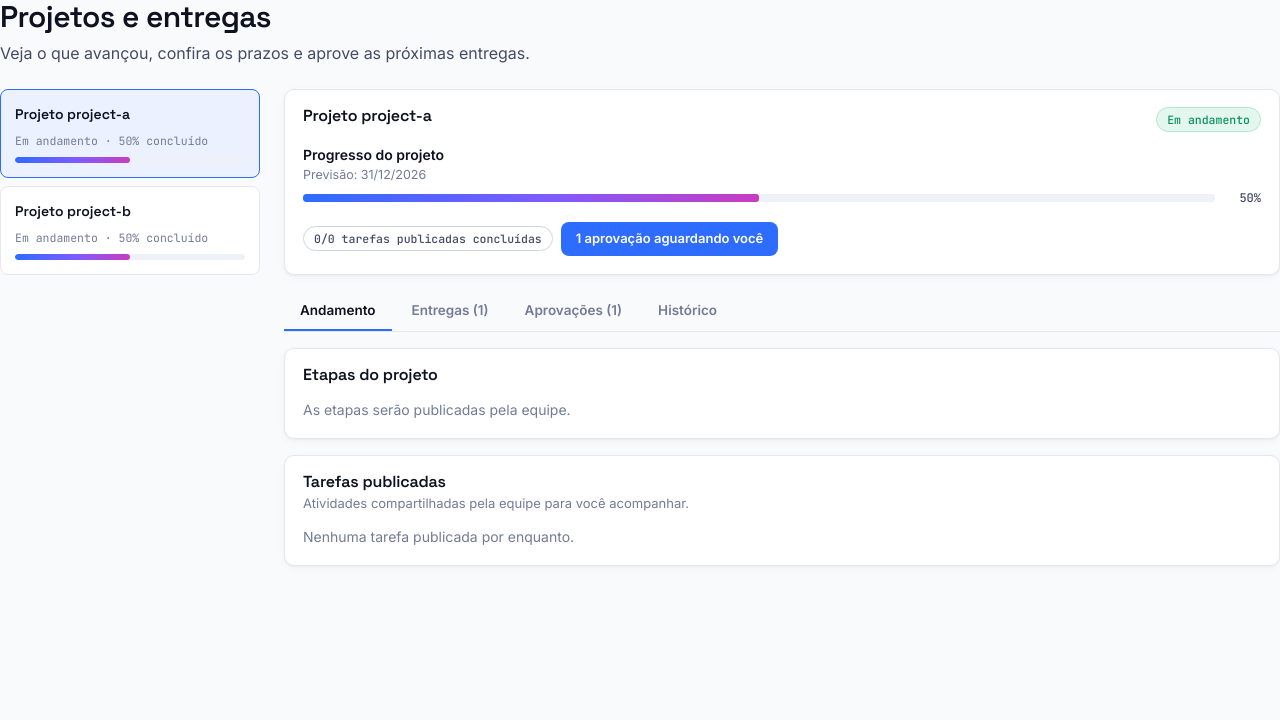
Test: PortalProjectsPage › keeps the approval dialog open with the error when registering fails
Press the mouse on the tab "Aprovações (1)": (573, 311) [509,291,638,331]
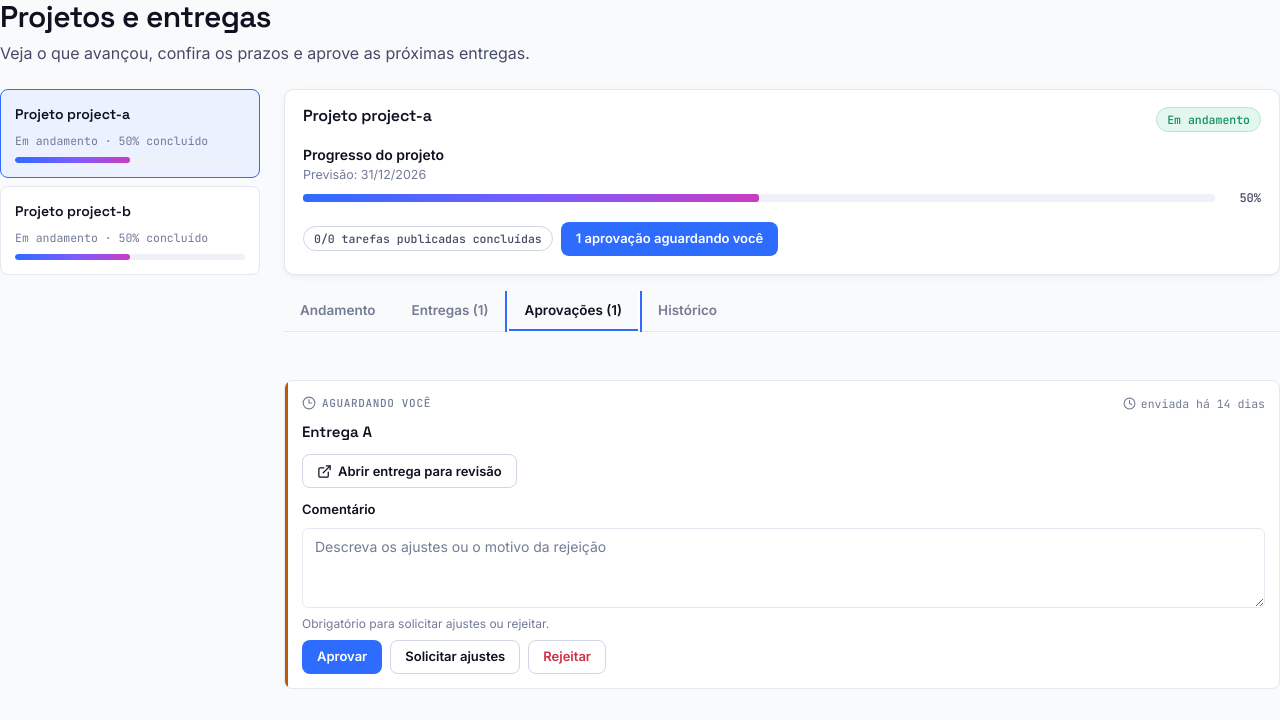
Click the button "Aprovar": (342, 657) [302,640,382,674]
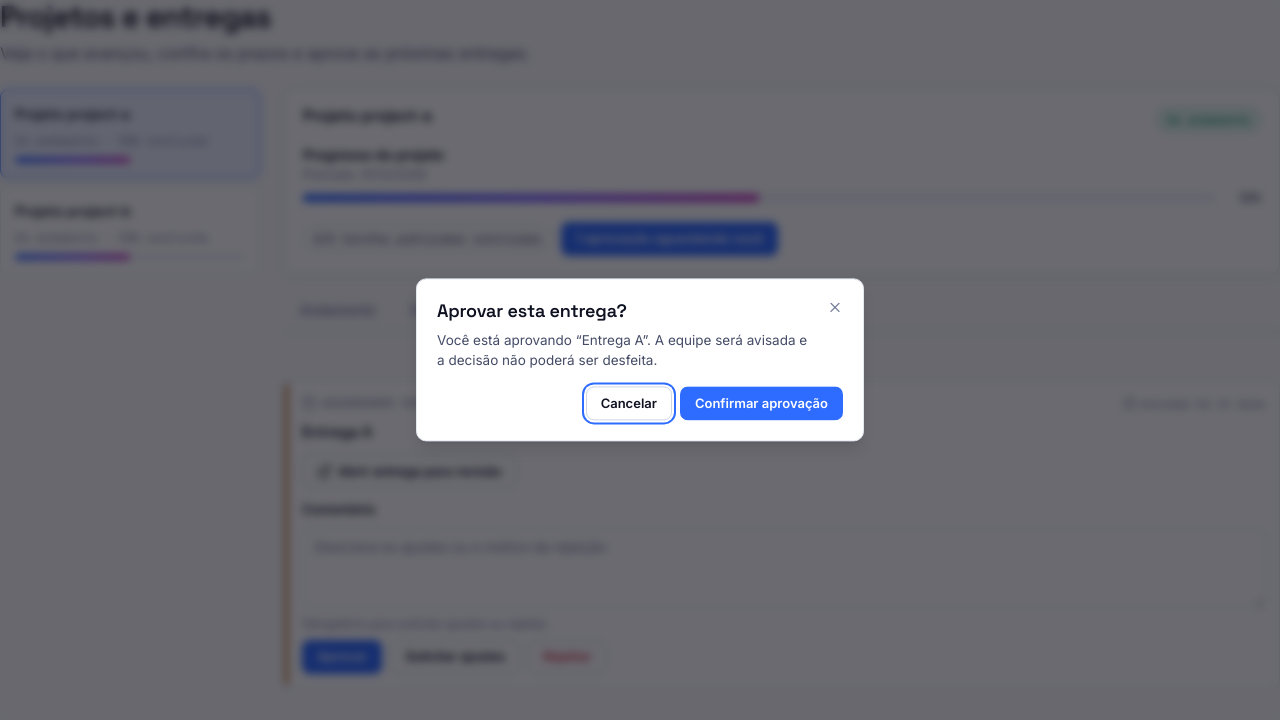
Click the button "Confirmar aprovação": (761, 404) [680,387,843,421]
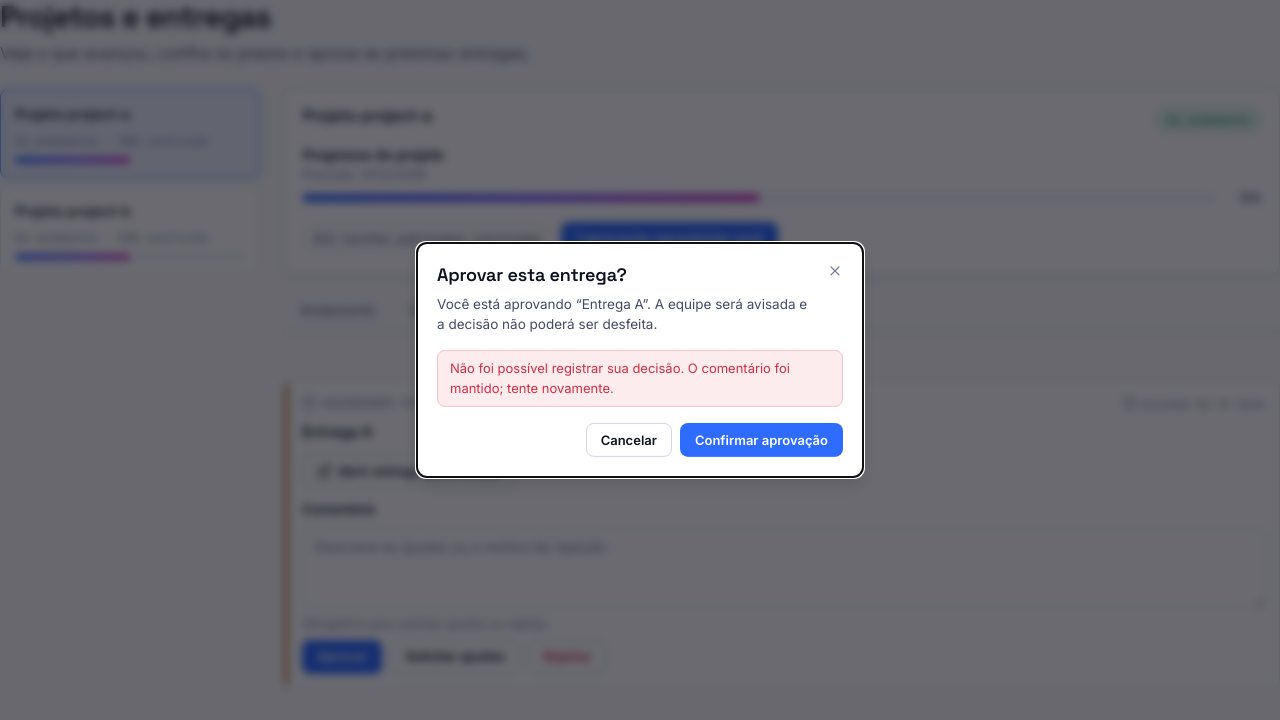
Expected: the dialog is shown, [416,242,864,478]
Expected: the message shows "Não foi possível registrar sua decisão", [450,360,790,396]
